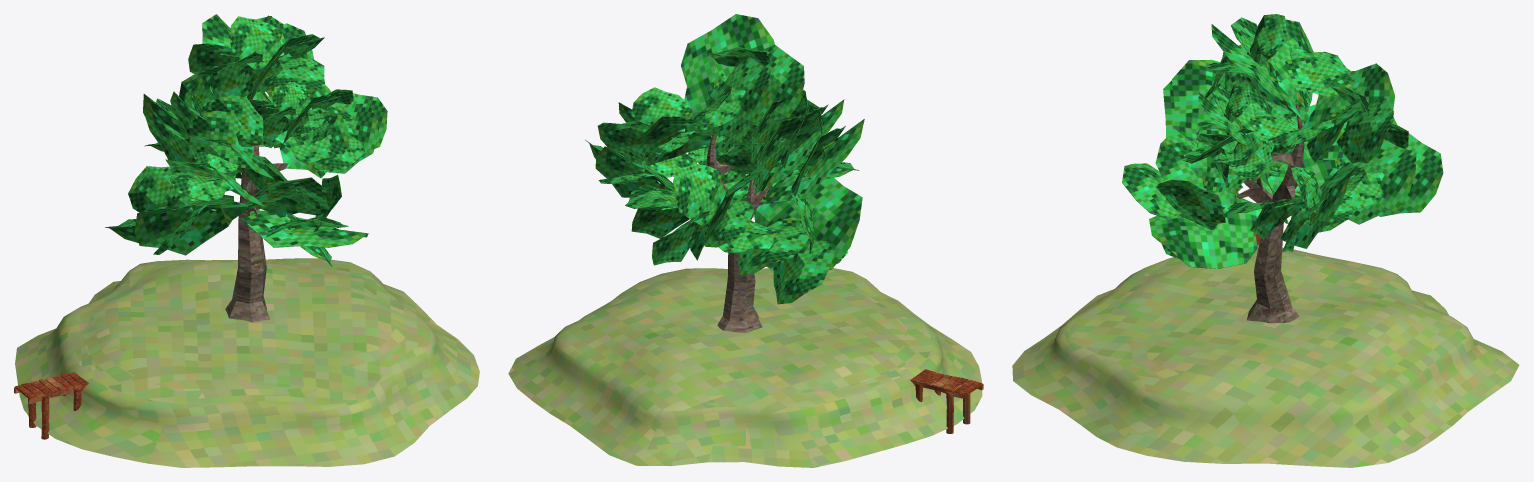
Rendered from Island.fbx.
3 views of the same model, side by side, from view 1: azimuth 30°, elevation 25°; view 2: azimuth 150°, elevation 25°; view 3: azimuth 270°, elevation 25° (orthographic). The views are drawn at different scales.
Parts seen in each view (by area): view 1: Island, Plane.001, Dock; view 2: Island, Plane.001, Dock; view 3: Island, Plane.001.
Part boxes in pixels (left/top/right/bottom): Island: left=15, top=258, right=479, bottom=467; Plane.001: left=105, top=14, right=387, bottom=322; Dock: left=14, top=372, right=88, bottom=439; Island: left=508, top=268, right=982, bottom=467; Plane.001: left=585, top=14, right=864, bottom=332; Dock: left=910, top=369, right=983, bottom=433; Island: left=1012, top=245, right=1519, bottom=467; Plane.001: left=1122, top=14, right=1443, bottom=323.
Size of the model in its own units: 906 by 712 by 911.
